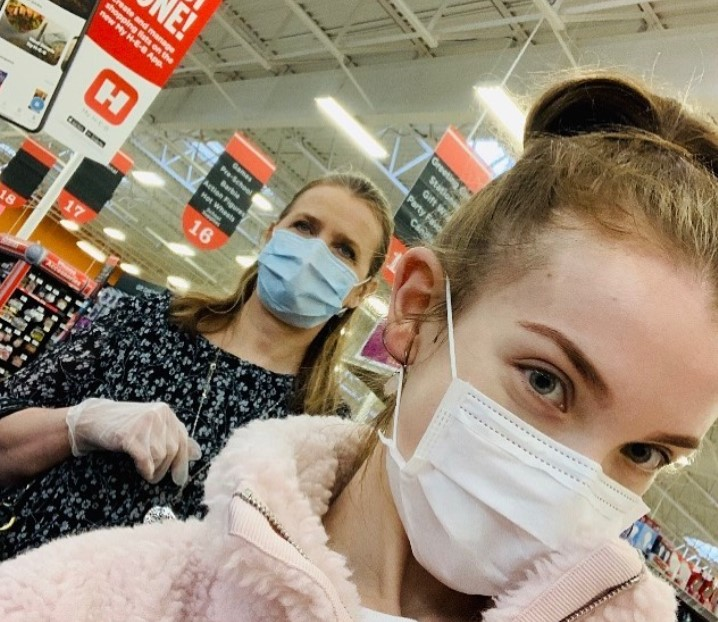face_with_mask: (396, 204, 715, 607), (257, 179, 393, 337)
